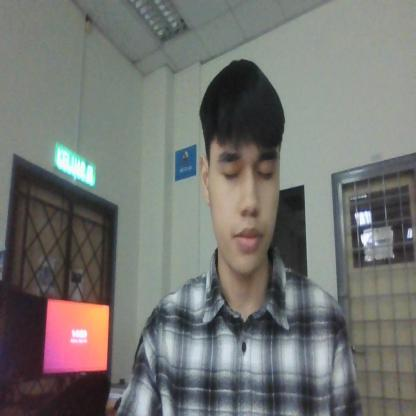Closed-Eyes: (212, 142, 281, 194)
